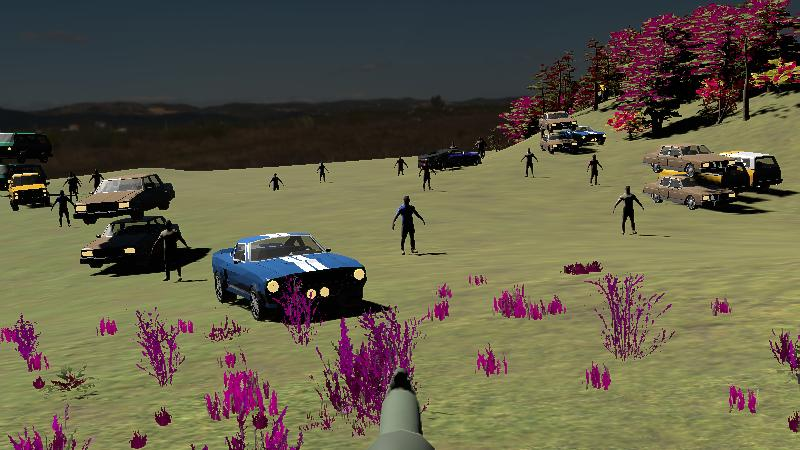Human: (391, 195, 426, 255)
car: (210, 228, 369, 320), (77, 216, 185, 274), (74, 170, 177, 225), (642, 142, 725, 179), (641, 174, 723, 210), (721, 151, 783, 194), (6, 169, 52, 213), (0, 128, 54, 164), (418, 146, 483, 171), (540, 130, 580, 155), (539, 111, 577, 136), (568, 124, 607, 146), (0, 163, 16, 193)
